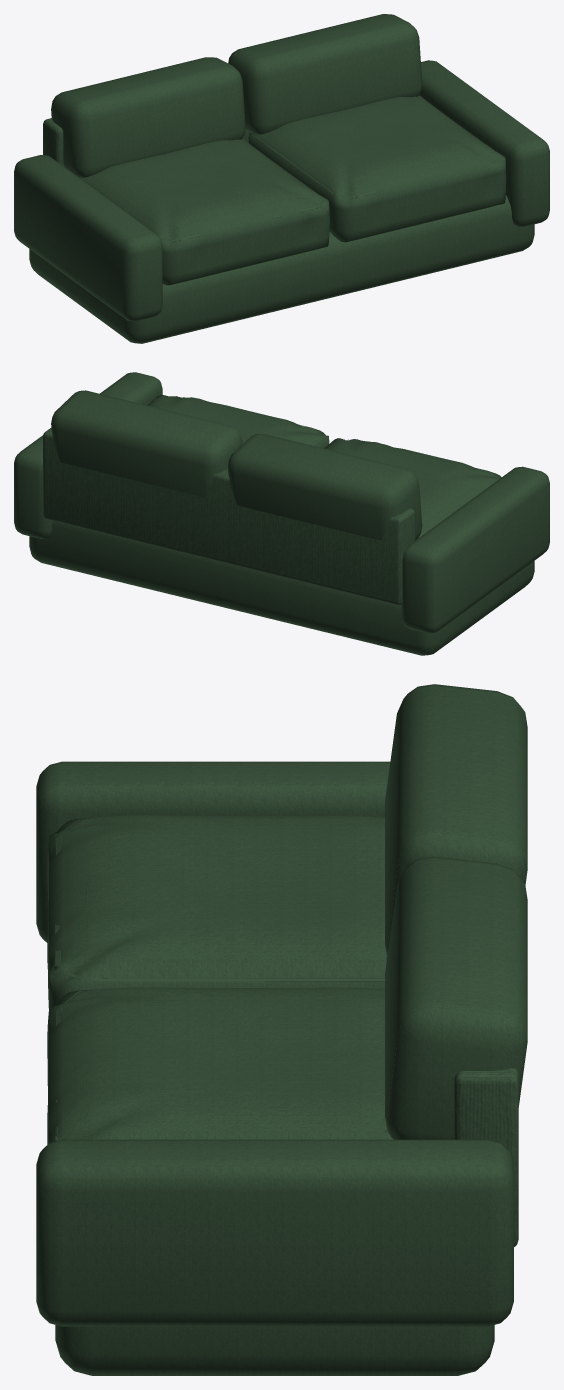
The model's file is modular-play-sofa.glb.
3 views of the same model, one above another, from view 1: azimuth 30°, elevation 25°; view 2: azimuth 150°, elevation 25°; view 3: azimuth 270°, elevation 25° (orthographic). The views are drawn at different scales.
Visible parts, largest first — view 1: catalog_surface_UVMap, catalog_surface_RealismUV; view 2: catalog_surface_UVMap; view 3: catalog_surface_UVMap, catalog_surface_RealismUV.
Part boxes in pixels (bbox=[...]): catalog_surface_UVMap: bbox=[14, 14, 549, 343]; catalog_surface_RealismUV: bbox=[86, 39, 500, 241]; catalog_surface_UVMap: bbox=[14, 372, 549, 655]; catalog_surface_UVMap: bbox=[36, 684, 527, 1375]; catalog_surface_RealismUV: bbox=[54, 819, 400, 1140].
Size of the model in its own units: 1.5 by 0.58 by 0.75.
Materials: 2 (1 with a texture image).
